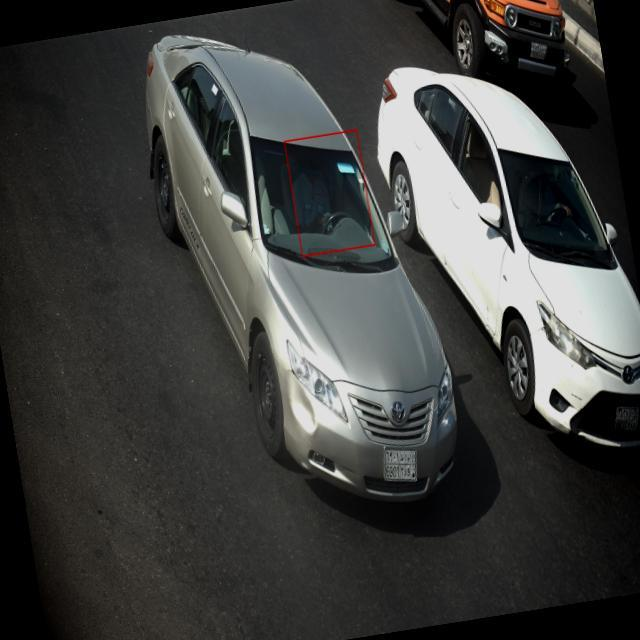windshield: (244, 134, 401, 277), (494, 145, 618, 271)
